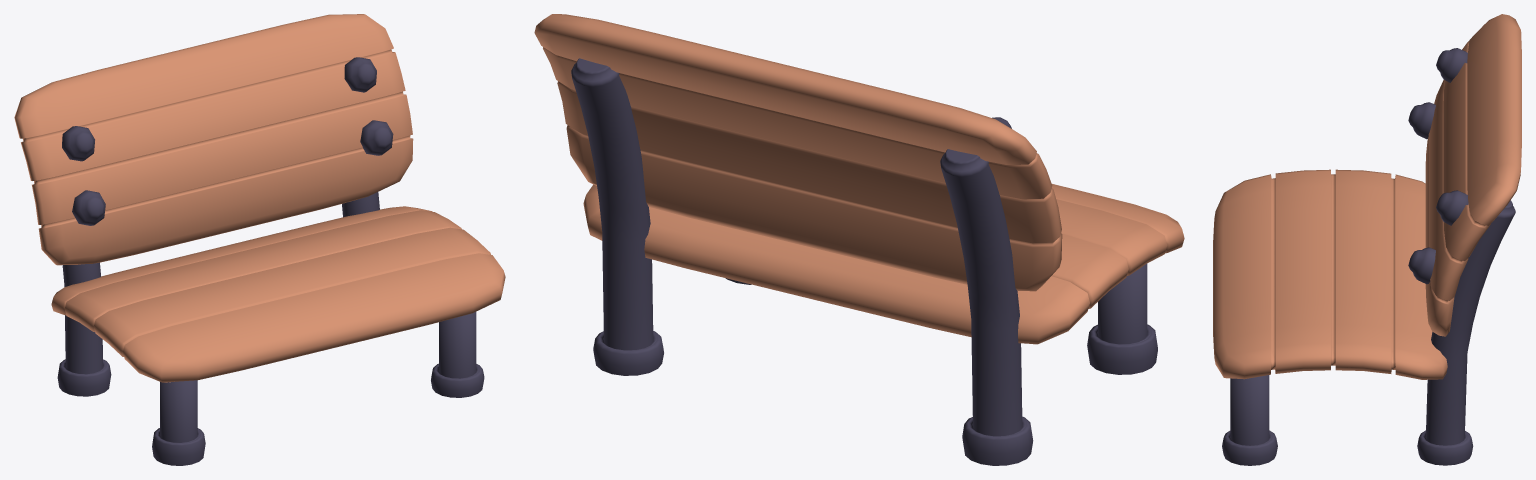
The model's file is Bench_Outside.glb.
The picture shows the model from 3 angles, left to right: view 1: azimuth 30°, elevation 25°; view 2: azimuth 150°, elevation 25°; view 3: azimuth 270°, elevation 25°; orthographic projection. The views are drawn at different scales.
Parts seen in each view (by area): view 1: Bench_Outside; view 2: Bench_Outside; view 3: Bench_Outside.
Part boxes in pixels (x1=…): Bench_Outside: x1=14, y1=14, x2=505, y2=465; Bench_Outside: x1=534, y1=14, x2=1184, y2=465; Bench_Outside: x1=1213, y1=14, x2=1521, y2=465.
Size of the model in its own units: 0.7829 by 0.5661 by 0.544.
Materials: 1 (1 with a texture image).
